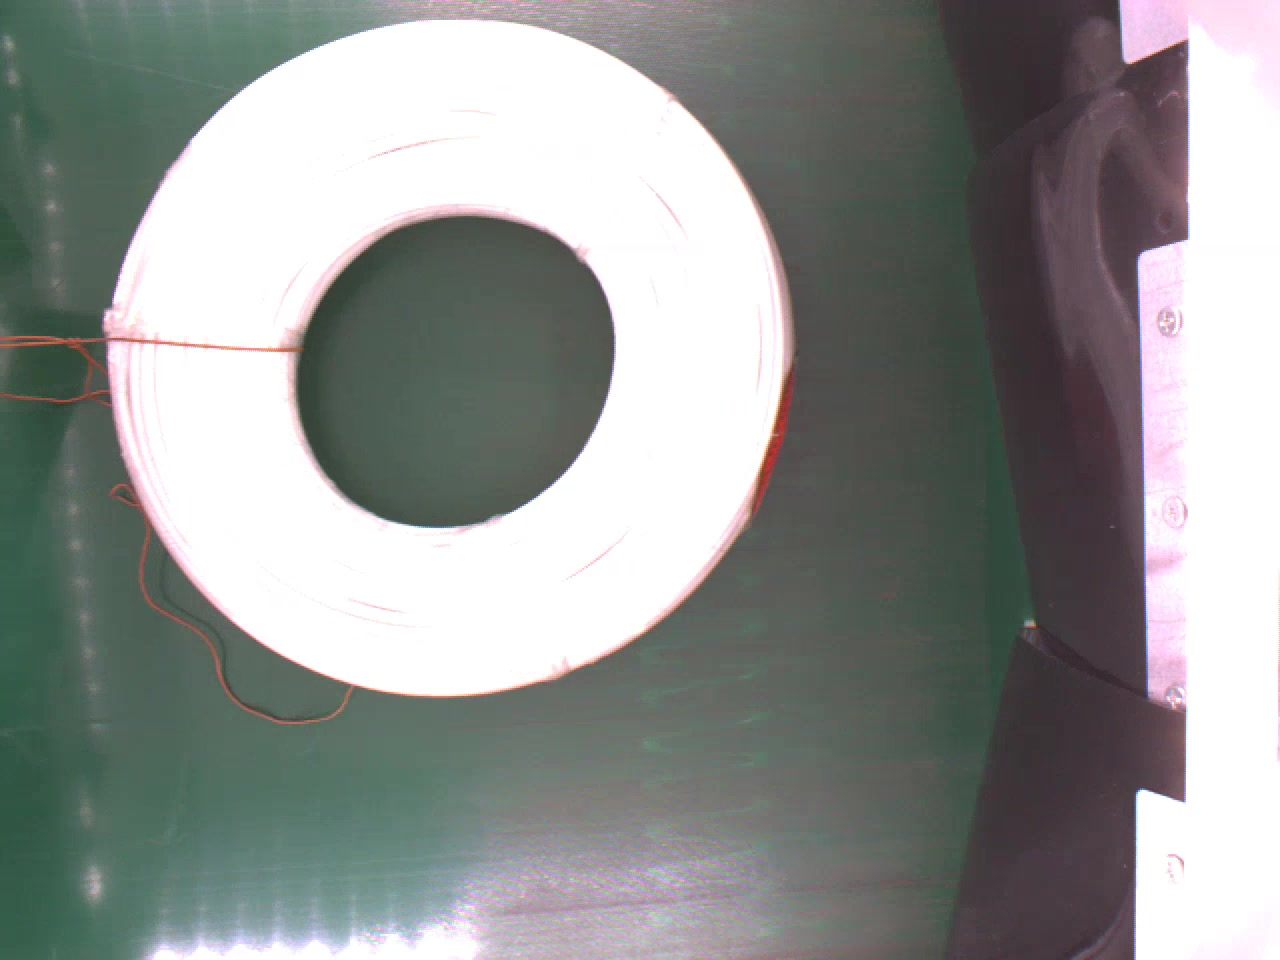white: (110, 12, 801, 703)
